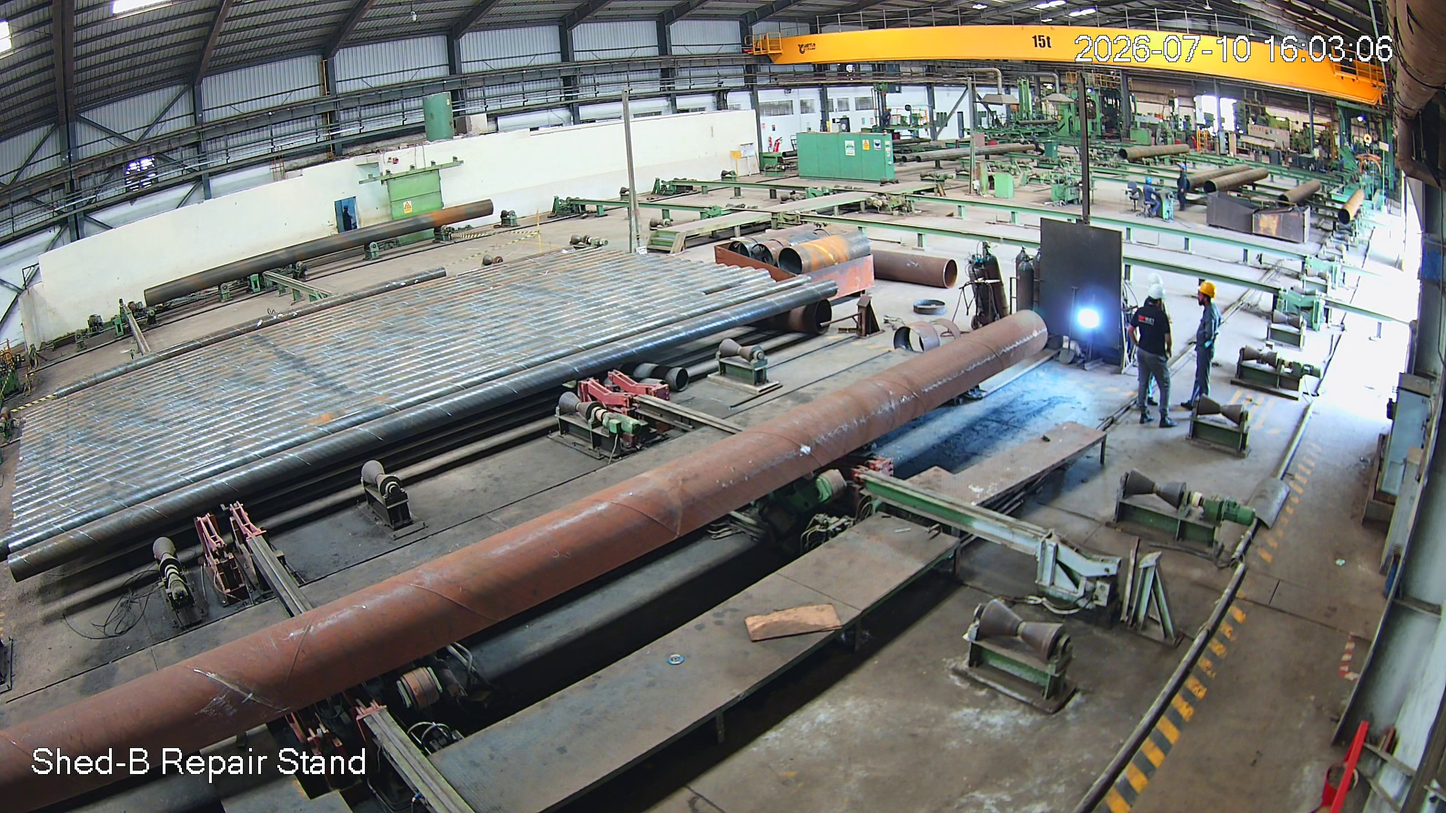Helmet: (1192, 279, 1221, 316), (1143, 285, 1173, 313)
Person: (1129, 288, 1174, 428), (1185, 281, 1223, 413)
